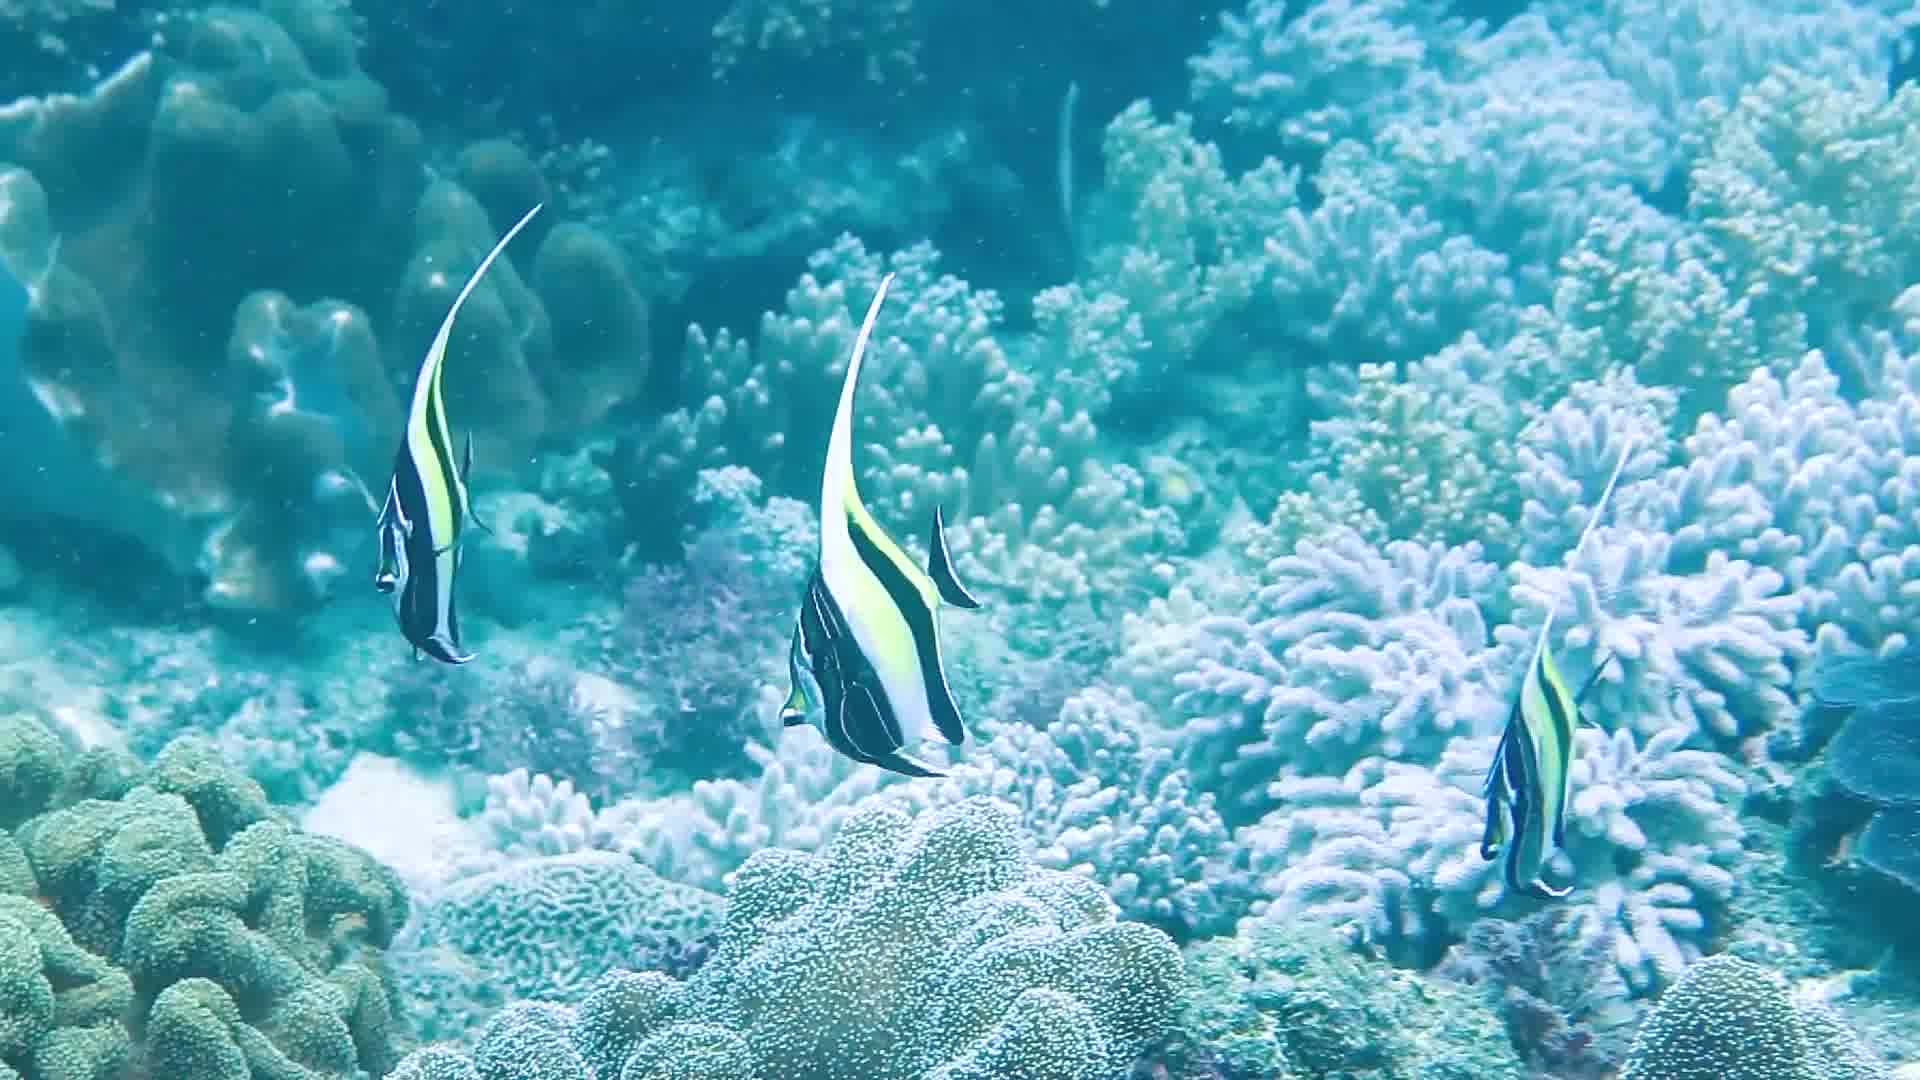Zanclus cornutus: (752, 477, 982, 798), (342, 355, 572, 675), (1427, 589, 1658, 909)
